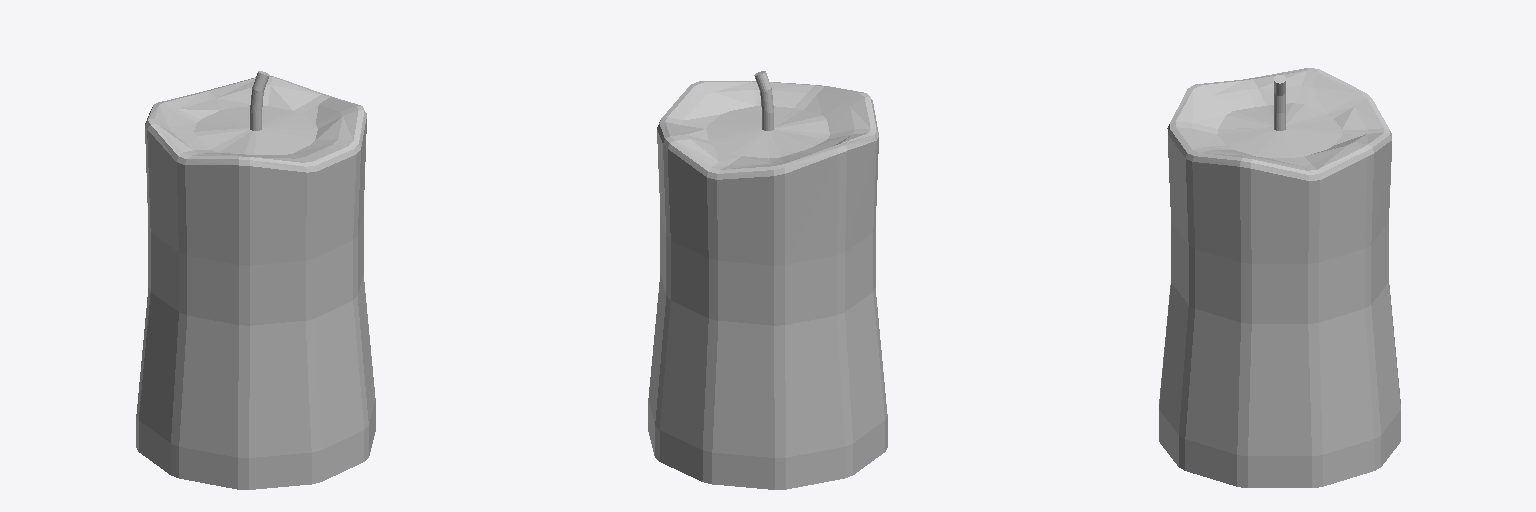
The model's file is candle1_lp.obj.
The picture shows the model from 3 angles: view 1: azimuth 30°, elevation 25°; view 2: azimuth 150°, elevation 25°; view 3: azimuth 270°, elevation 25°; orthographic projection.
Parts seen in each view (by area): view 1: candle1_lp:polySurface1; view 2: candle1_lp:polySurface1; view 3: candle1_lp:polySurface1.
Boxes of the visible parts, box(x1,y1,x2,y2) form: candle1_lp:polySurface1: box(136, 71, 375, 489); candle1_lp:polySurface1: box(648, 71, 887, 489); candle1_lp:polySurface1: box(1159, 68, 1400, 487).
Size of the model in its own units: 0.735 by 1.27 by 0.7614.